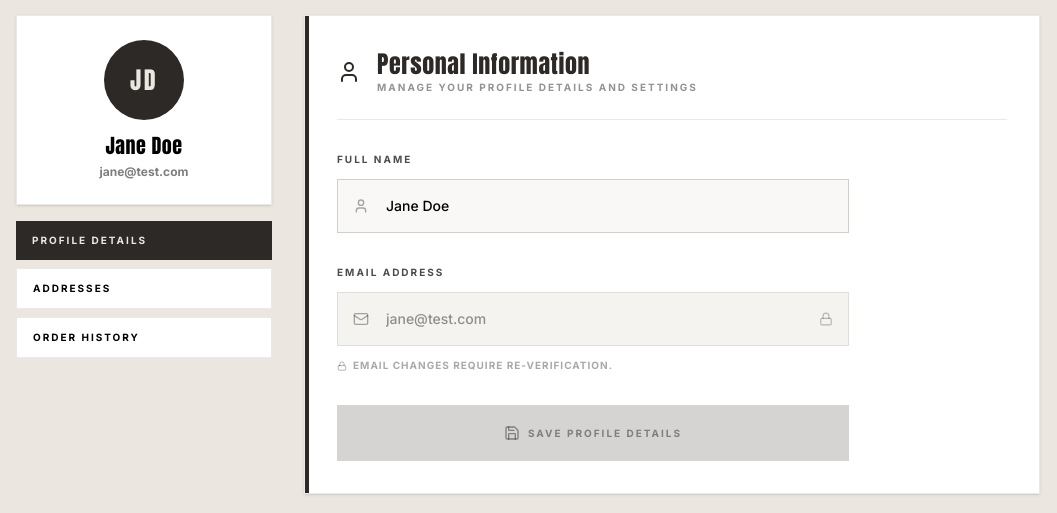
Test: Profile › updates profile name successfully
The width and height of the screenshot is (1057, 513).
Step 1. Replace the text in the field showing "Jane Doe" below "Full Name" with "Jane Updated" → (593, 206), box left=337, top=179, right=849, bottom=233
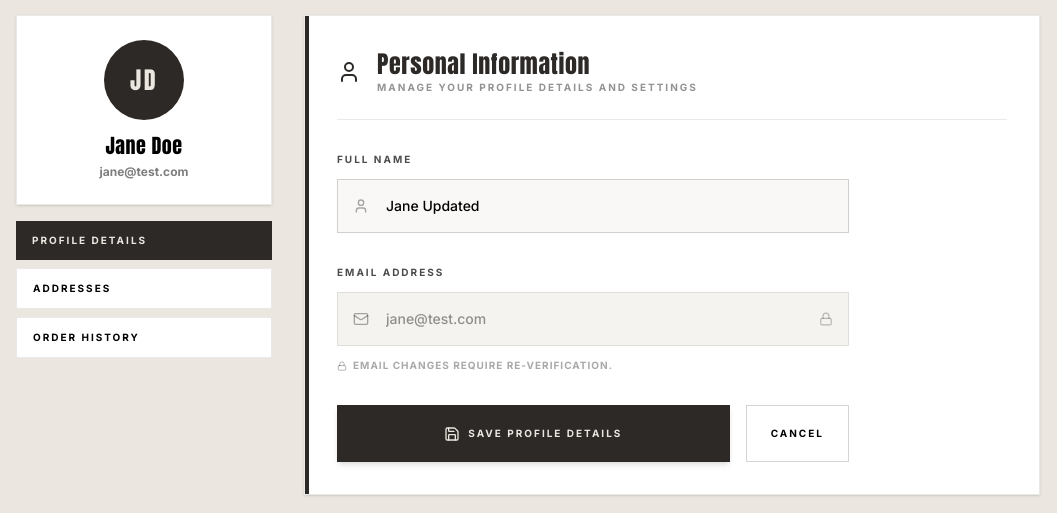
Step 2. Click the button "Save Profile Details" → (533, 434), box left=337, top=405, right=730, bottom=462
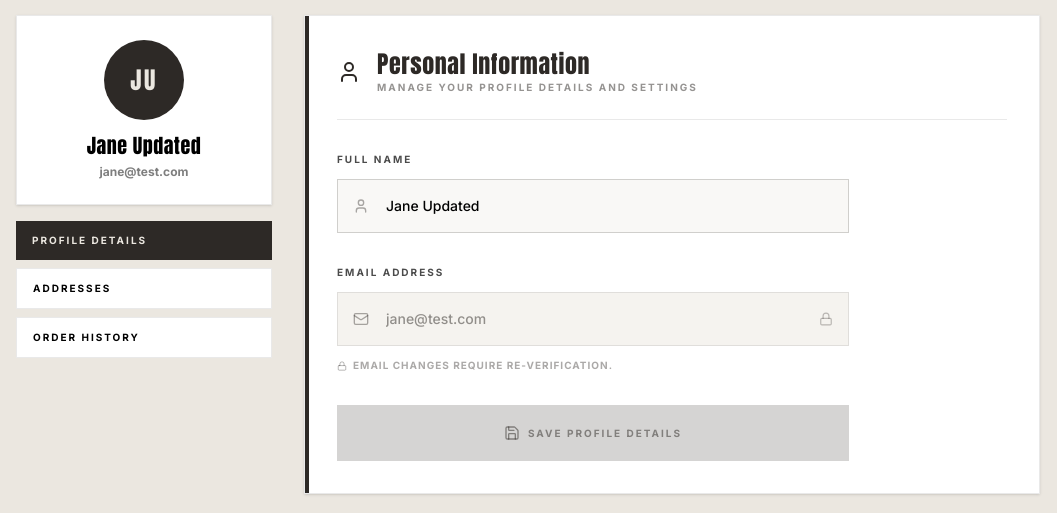
Expected: the heading "Jane Updated" is shown, left=87, top=132, right=201, bottom=160
